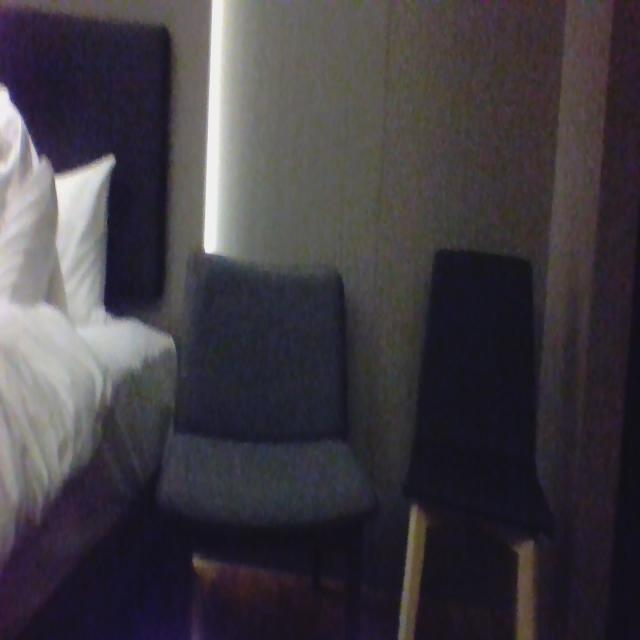empty: (168, 260, 362, 524), (408, 223, 535, 522)
